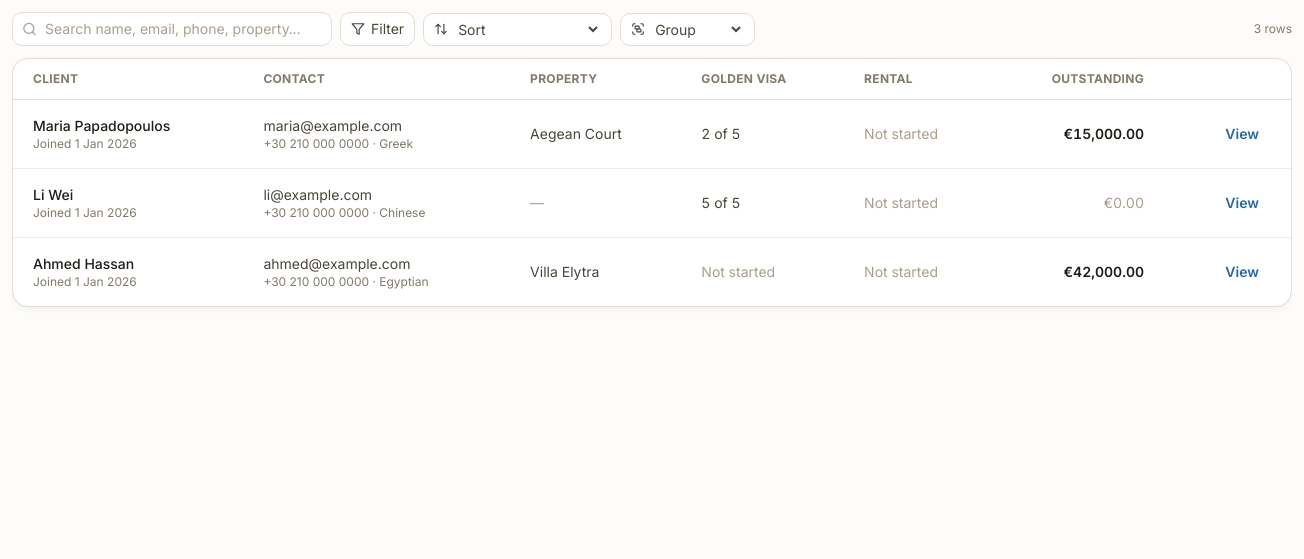
Test: grouping › splits the roster into labelled groups with counts
Select "Nationality" in the dropdown named "Group by" at (698, 29), box 651,20 -> 744,38
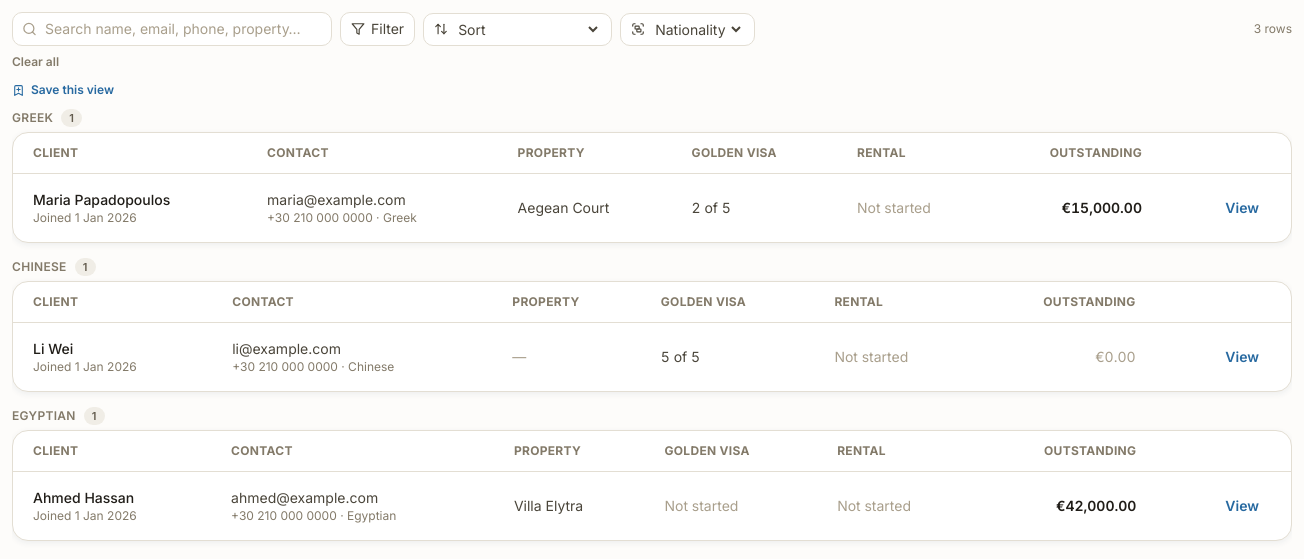
Now the heading "Greek1" is shown, box 12,109 -> 82,127
Now the heading "Chinese1" is shown, box 12,258 -> 96,276
Now the heading "Egyptian1" is shown, box 12,407 -> 105,425
